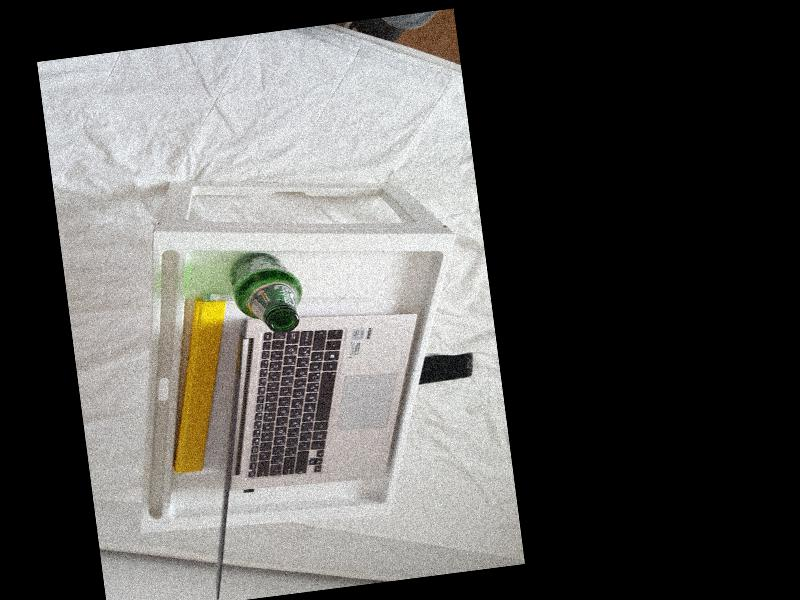Beer: (227, 246, 307, 337)
